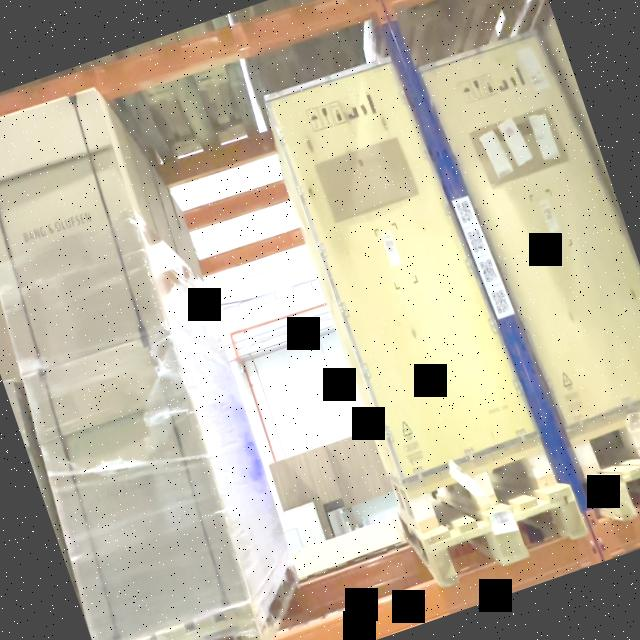box: (271, 58, 522, 482), (22, 330, 249, 640), (0, 91, 166, 368)
